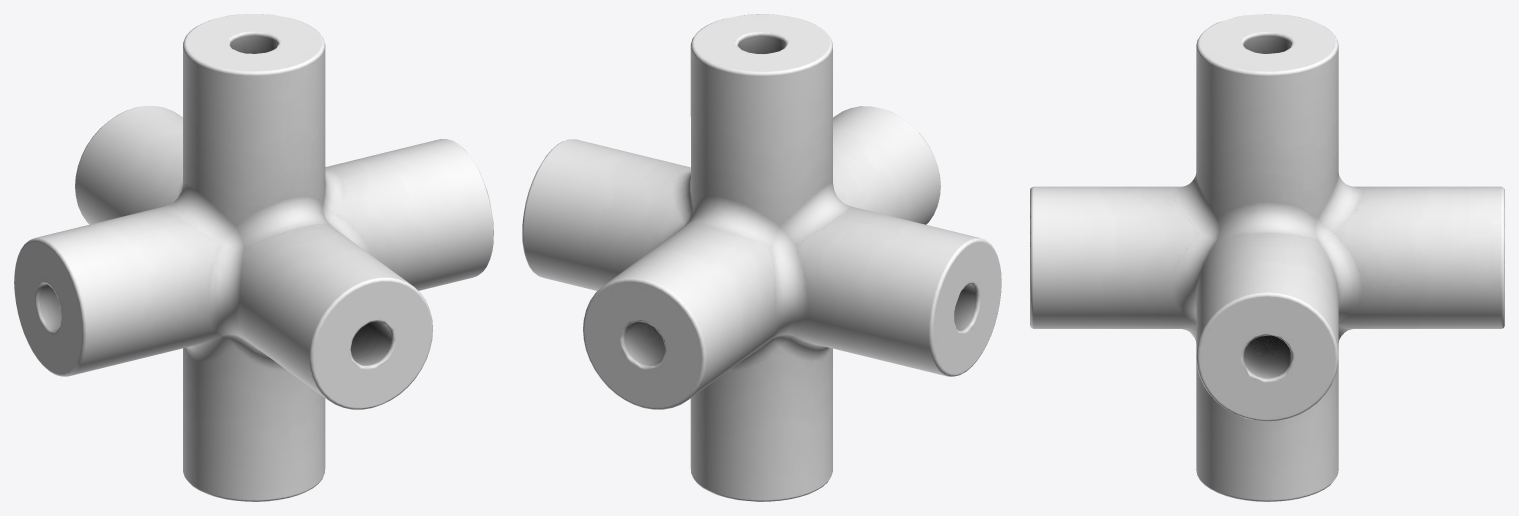
The picture shows the model from 3 angles, left to right: view 1: azimuth 30°, elevation 25°; view 2: azimuth 150°, elevation 25°; view 3: azimuth 270°, elevation 25°; orthographic projection.
Visible parts, largest first — view 1: connector; view 2: connector; view 3: connector.
Part boxes in pixels (x1,y1,x2,y2): connector: [14, 14, 493, 501]; connector: [522, 14, 1001, 501]; connector: [1030, 14, 1504, 501].
Size of the model in its own units: 2.54 by 2.54 by 2.54.
Materials: 1 (1 with a texture image).
